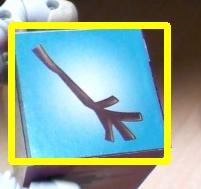Blue4: (11, 25, 167, 161)
